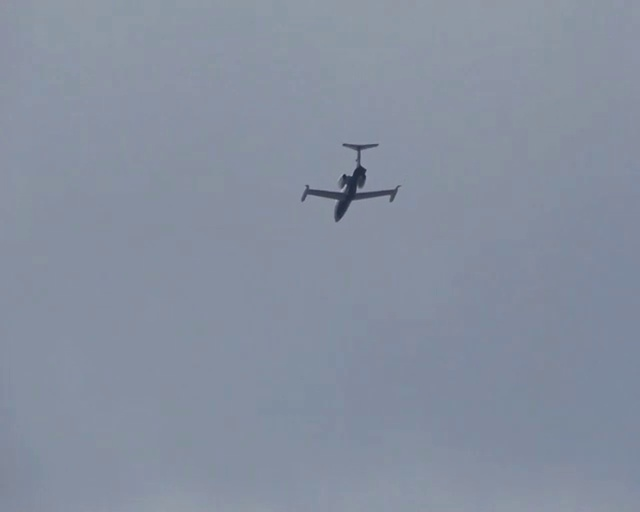AIRPLANE: (301, 142, 403, 222)
